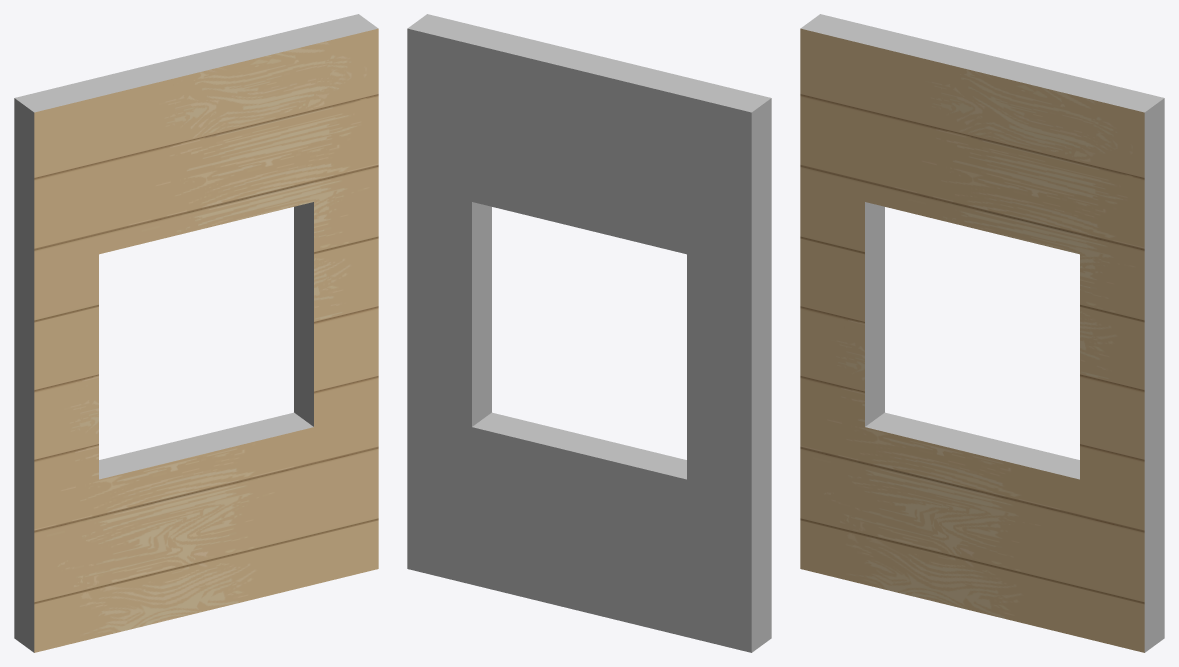
The model's file is Wall Standard Window 1.fbx.
The picture shows the model from 3 angles, left to right: view 1: azimuth 30°, elevation 25°; view 2: azimuth 150°, elevation 25°; view 3: azimuth 330°, elevation 25°; orthographic projection.
Parts seen in each view (by area): view 1: Wall Standard (Window 1); view 2: Wall Standard (Window 1); view 3: Wall Standard (Window 1).
Part boxes in pixels (x1,y1,x2,y2): Wall Standard (Window 1): (14, 14, 378, 652); Wall Standard (Window 1): (407, 14, 771, 652); Wall Standard (Window 1): (800, 14, 1164, 652).
Size of the model in its own units: 200 by 300 by 20.
